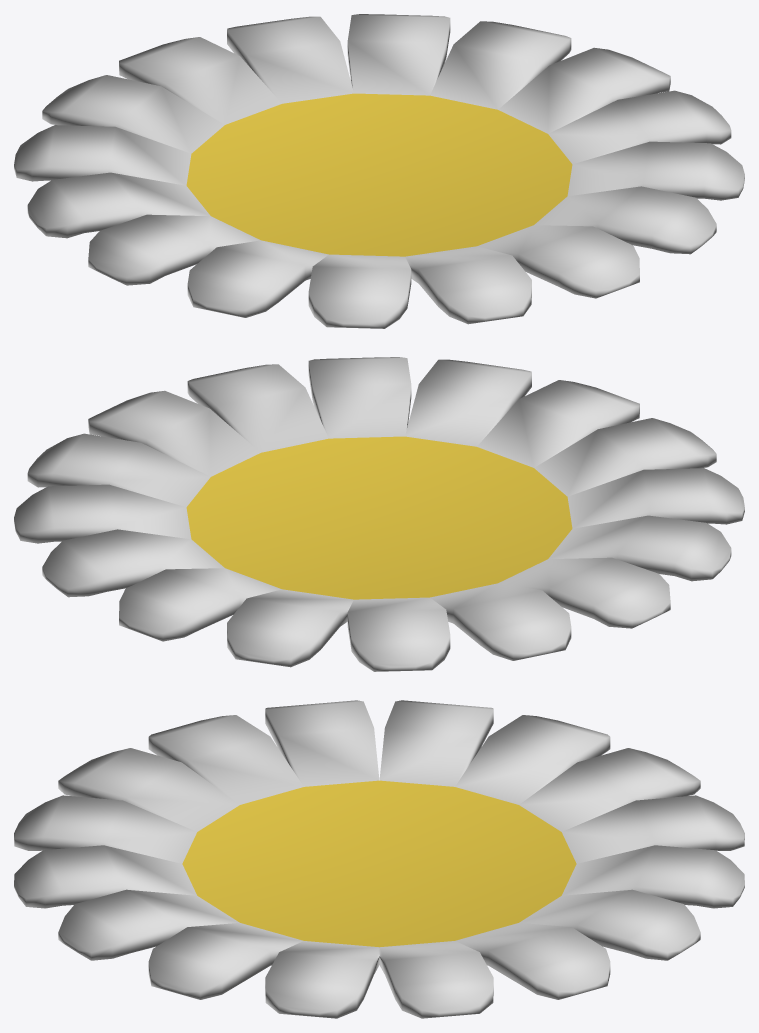
File: SM_Flower.fbx
3 views of the same model, one above another, from view 1: azimuth 30°, elevation 25°; view 2: azimuth 150°, elevation 25°; view 3: azimuth 270°, elevation 25° (orthographic).
Parts seen in each view (by area): view 1: Cylinder; view 2: Cylinder; view 3: Cylinder.
Boxes of the visible parts, x1,y1,x2,y2 form: Cylinder: (14, 14, 744, 328); Cylinder: (14, 357, 744, 671); Cylinder: (14, 700, 744, 1018).
Size of the model in its own units: 100 by 100 by 5.77.
